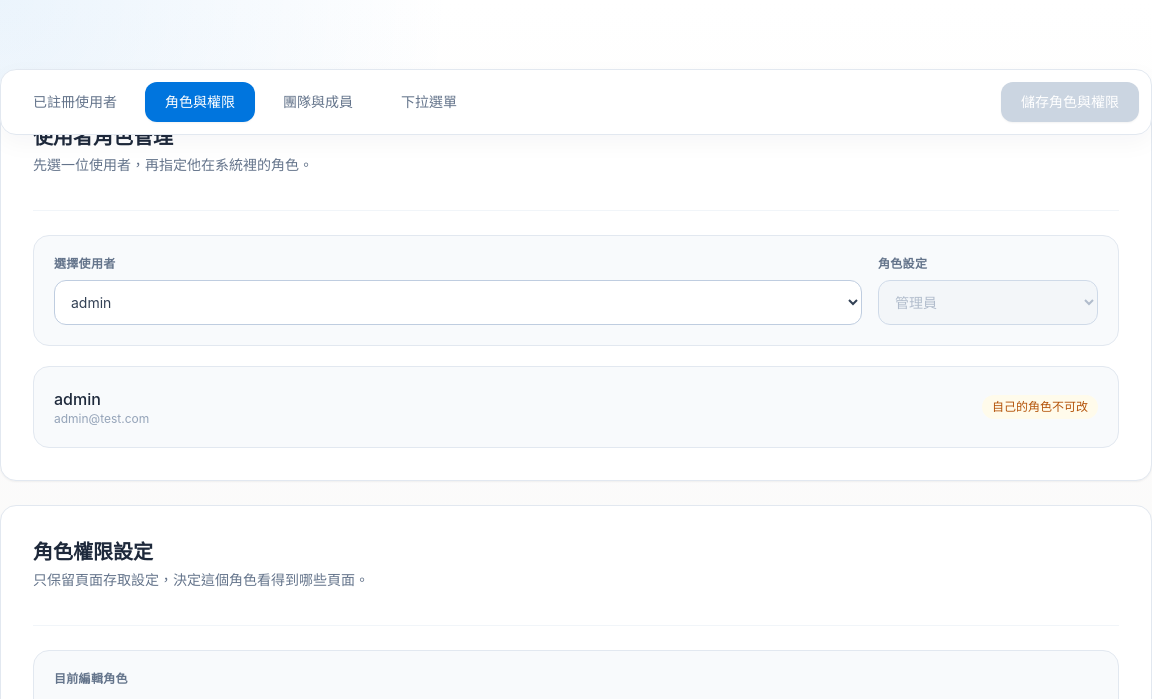
SettingsPage › keeps registered user roles aligned with effective role resolution
Click the button "已註冊使用者": (75, 102) left=13, top=82, right=137, bottom=122
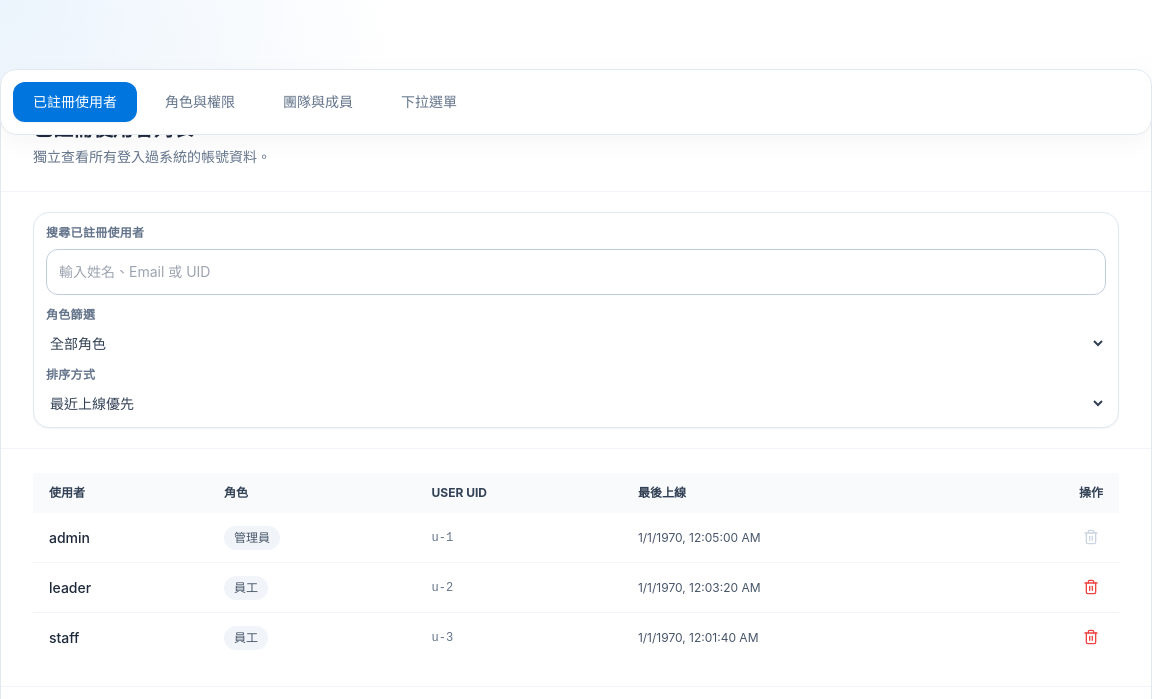
expect the text "admin" is shown: met, box left=33, top=513, right=208, bottom=562
expect the text "管理員" is shown: met, box left=224, top=526, right=280, bottom=550
